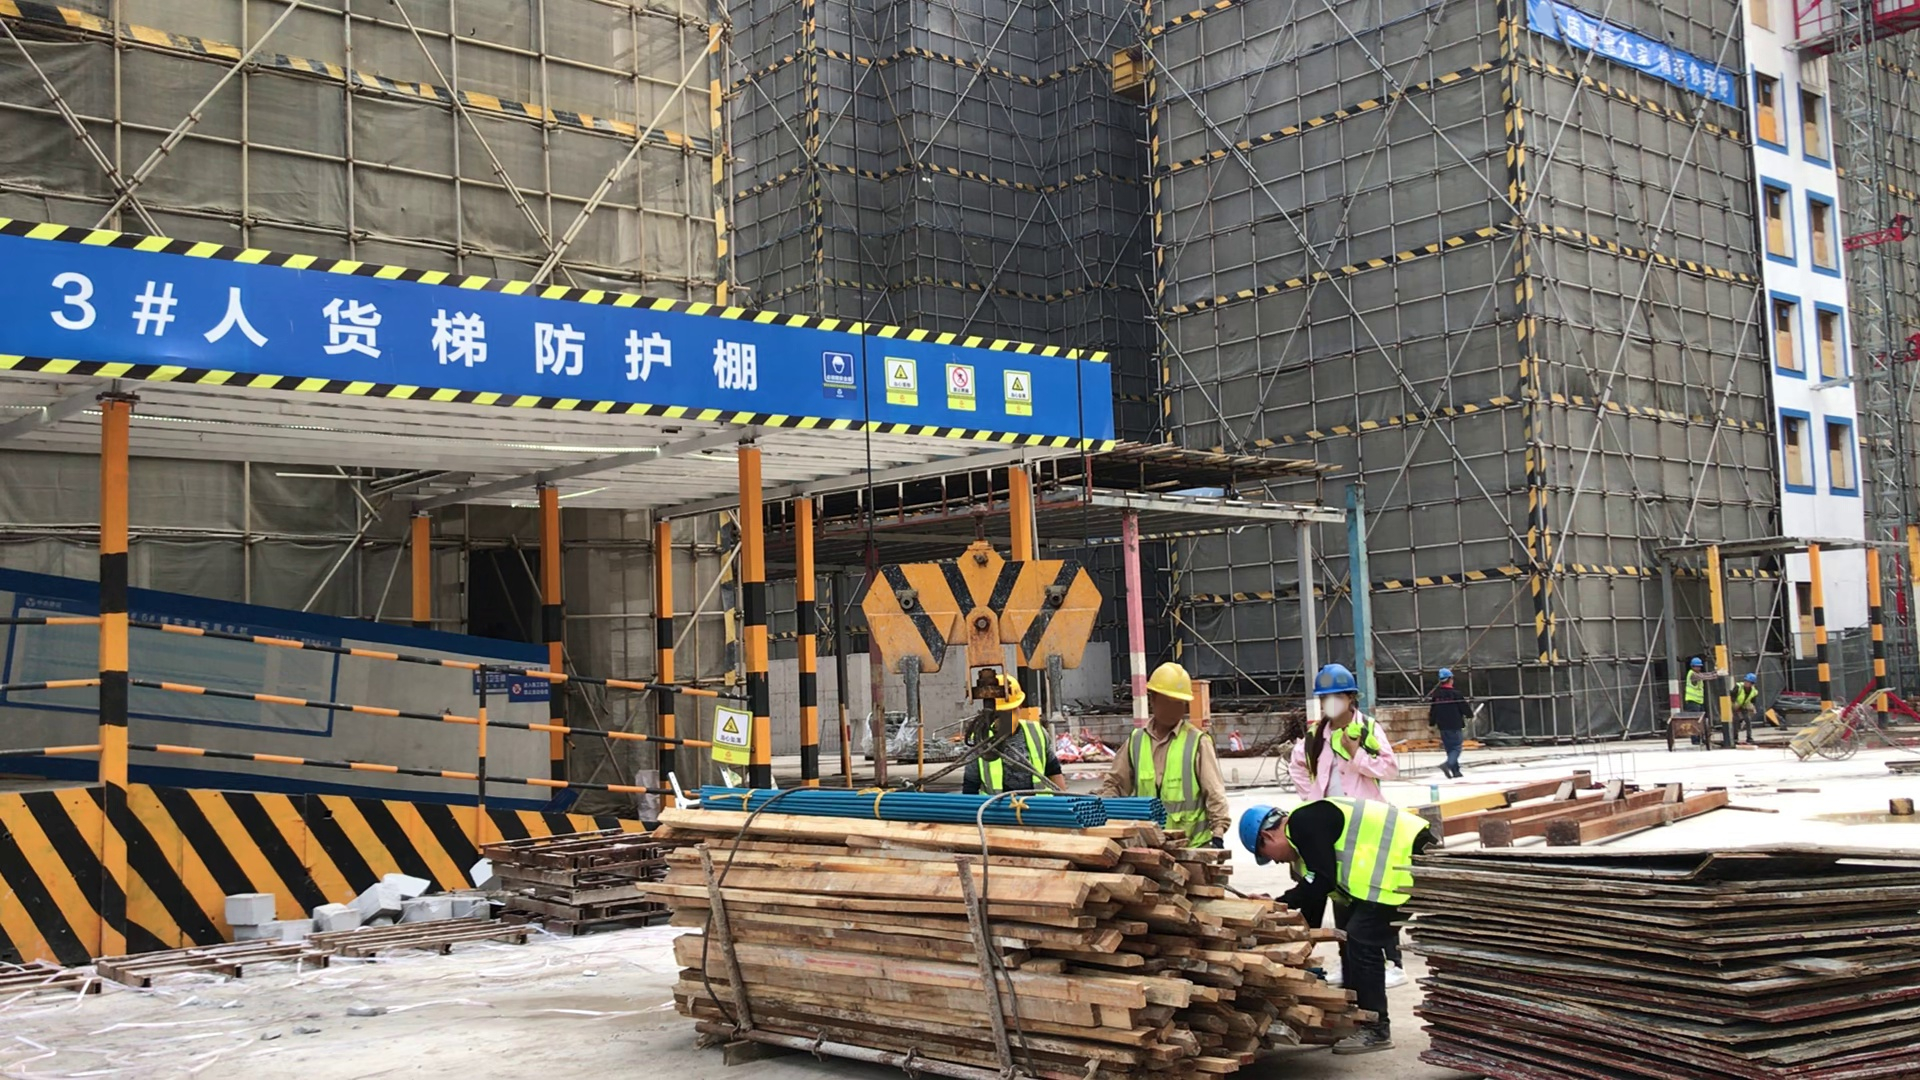helmet: (1238, 799, 1270, 868), (1145, 660, 1193, 702), (1312, 662, 1358, 697), (985, 676, 1029, 708), (1437, 668, 1453, 679), (1744, 673, 1758, 683), (1690, 657, 1702, 667)
person: (1294, 668, 1417, 987), (1243, 799, 1428, 1007), (1101, 660, 1229, 859), (964, 672, 1067, 798), (1429, 667, 1479, 779), (1730, 672, 1761, 745), (1682, 657, 1709, 716)
vest: (1289, 797, 1425, 902), (1131, 725, 1212, 850), (982, 726, 1046, 791), (1684, 669, 1704, 704), (1735, 683, 1756, 711)
